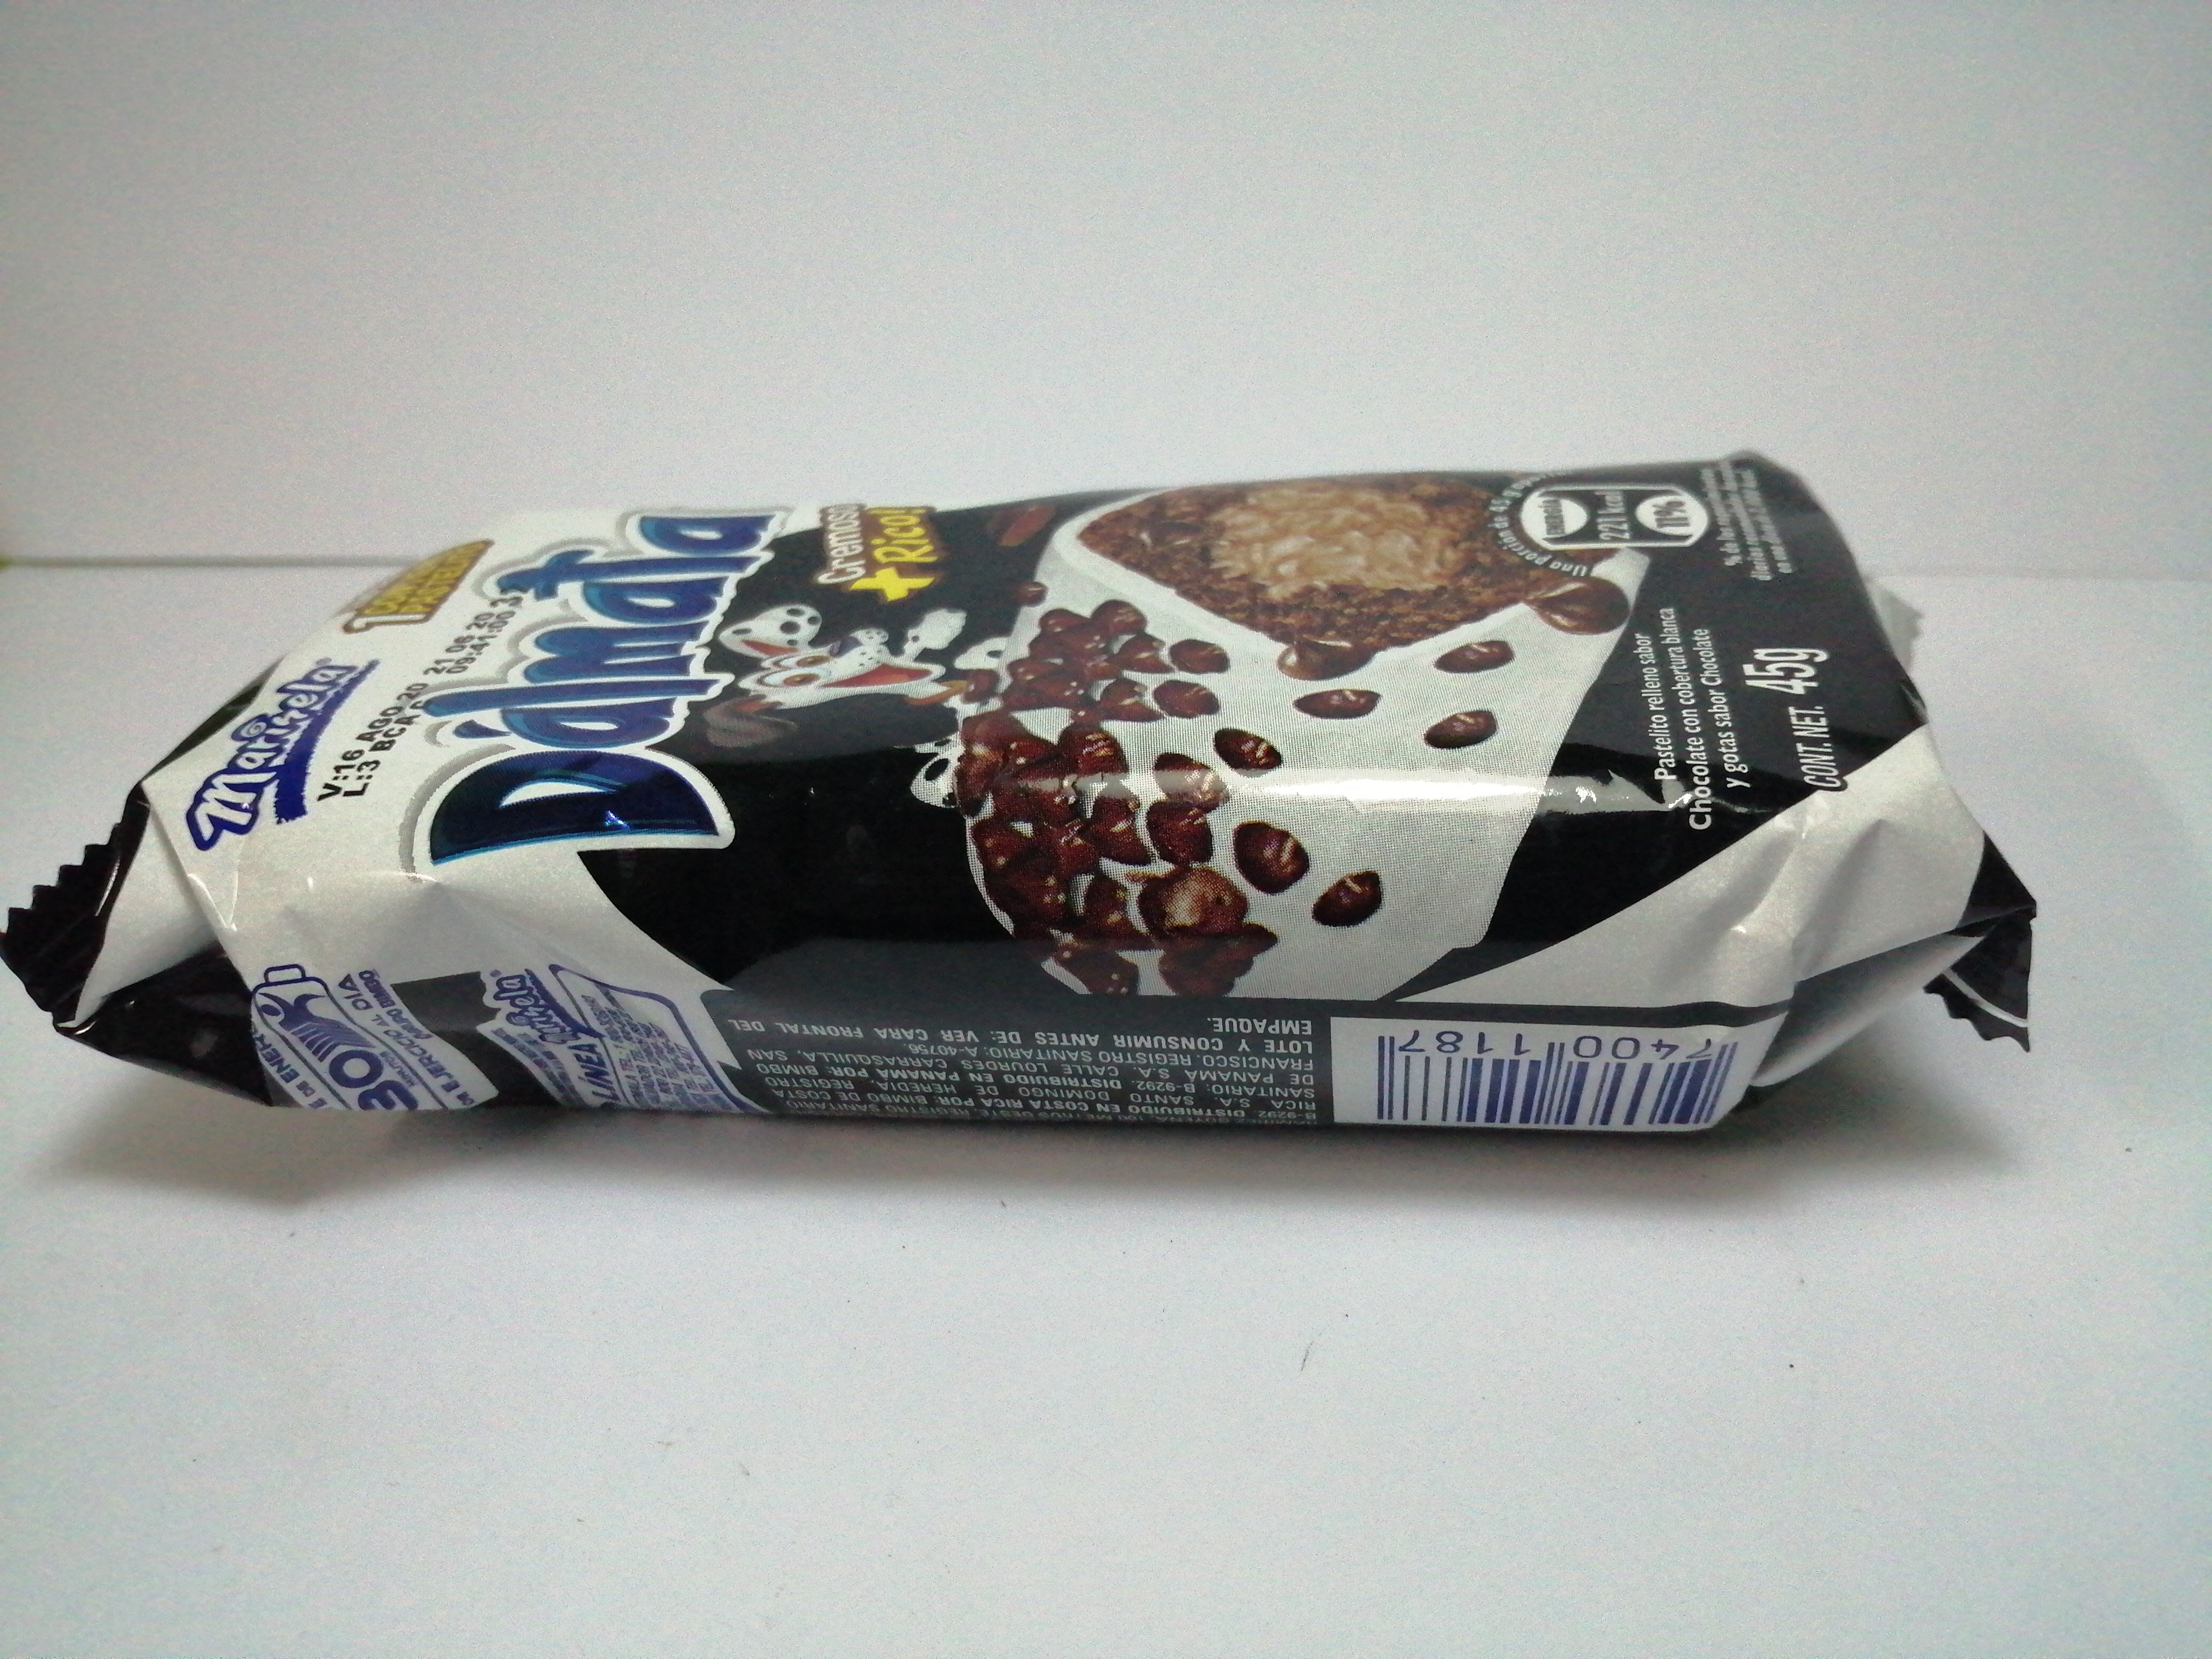dalmata: (10, 430, 2050, 1171)
